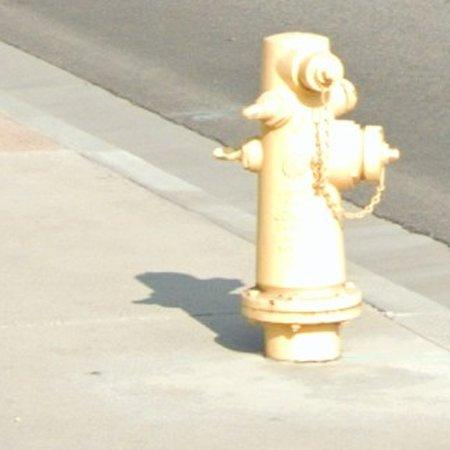a fire hydrant: (214, 32, 400, 361)
